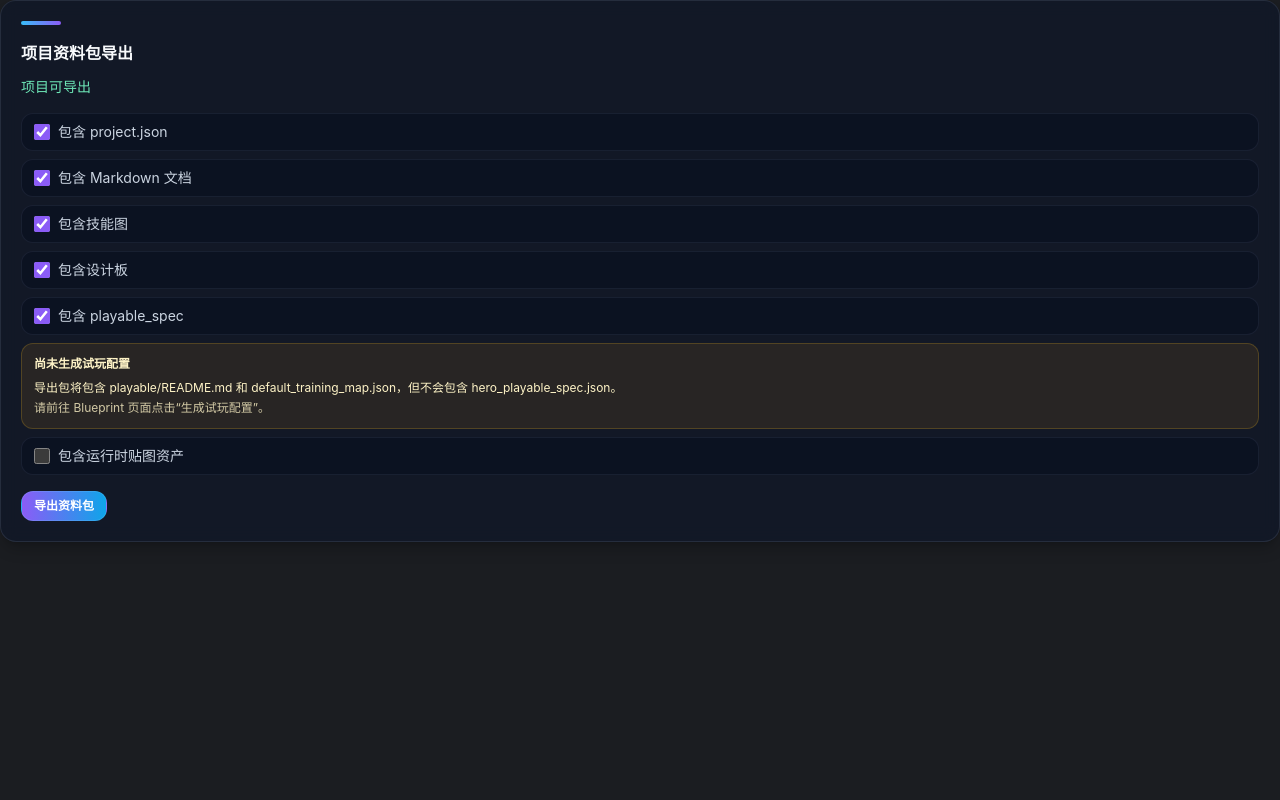
it: ProjectExportPanel › shows runtime vfx hint when selected without generated assets
The width and height of the screenshot is (1280, 800).
Click the checkbox labelled "包含运行时贴图资产" at [42, 456], box [34,448,50,464]
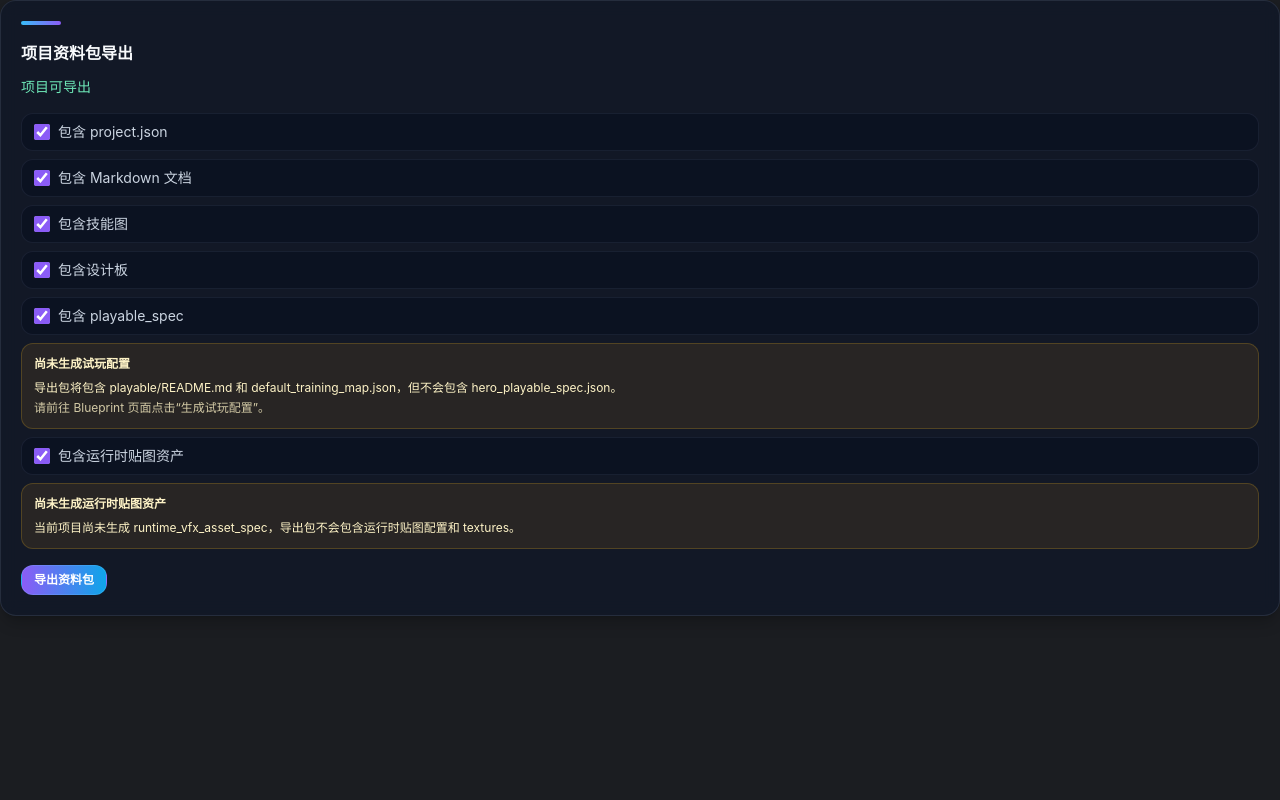
Expected: the text "当前项目尚未生成 runtime_vfx_asset_spec，导出包不会包含运行时贴图配置和 textures。" is shown, [34,520,521,535]
